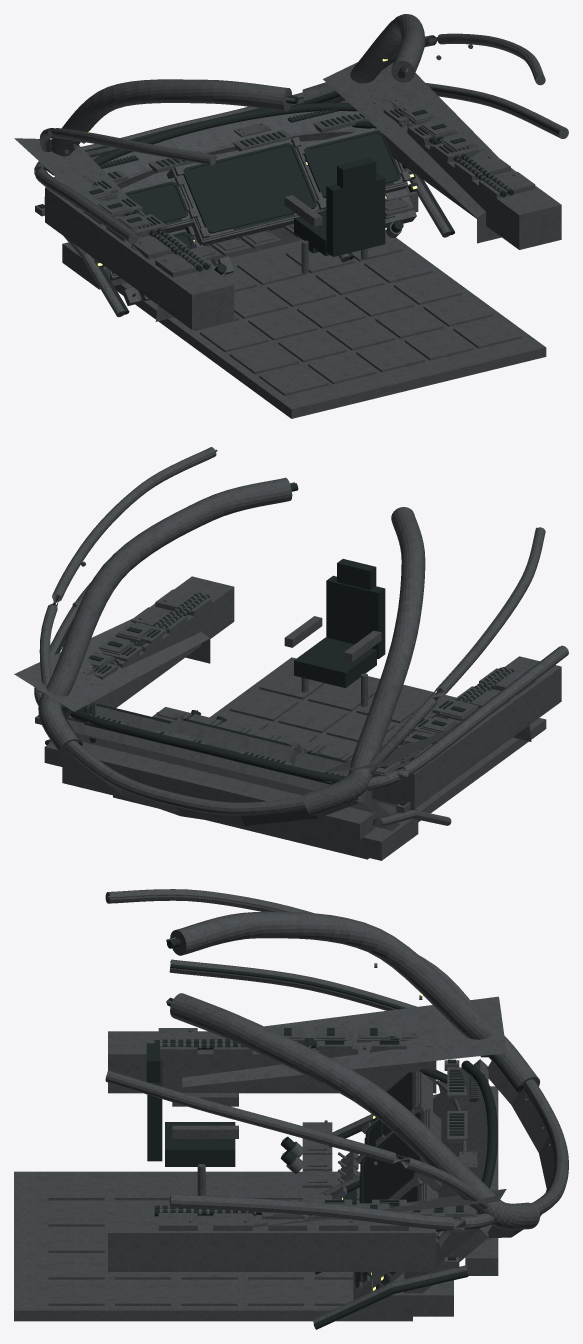
File: courier-cockpit.glb
3 views of the same model, one above another, from view 1: azimuth 30°, elevation 25°; view 2: azimuth 150°, elevation 25°; view 3: azimuth 270°, elevation 25° (orthographic). The views are drawn at different scales.
Parts seen in each view (by area): view 1: weathered-blue-steel, graphite-housings, rubber-and-recess, screen-radar, exposed-machined-edges, screen-target, screen-flight; view 2: graphite-housings, weathered-blue-steel, rubber-and-recess, exposed-machined-edges; view 3: graphite-housings, weathered-blue-steel, rubber-and-recess, exposed-machined-edges, screen-radar.
Part boxes in pixels (bbox=[...]): weathered-blue-steel: bbox=[14, 14, 535, 395]; graphite-housings: bbox=[34, 33, 568, 418]; rubber-and-recess: bbox=[38, 67, 559, 314]; screen-radar: bbox=[186, 146, 313, 229]; exposed-machined-edges: bbox=[39, 36, 564, 316]; screen-target: bbox=[307, 133, 397, 193]; screen-flight: bbox=[127, 185, 184, 219]; graphite-housings: bbox=[34, 447, 568, 860]; weathered-blue-steel: bbox=[14, 477, 535, 839]; rubber-and-recess: bbox=[38, 483, 559, 824]; exposed-machined-edges: bbox=[48, 449, 536, 827]; graphite-housings: bbox=[14, 889, 568, 1321]; weathered-blue-steel: bbox=[48, 911, 553, 1305]; rubber-and-recess: bbox=[146, 938, 557, 1329]; exposed-machined-edges: bbox=[107, 893, 553, 1323]; screen-radar: bbox=[363, 1116, 418, 1203].
Bounding box in the file's own units: 7.27 × 4.08 × 7.09.
7 materials, 5 textured.
